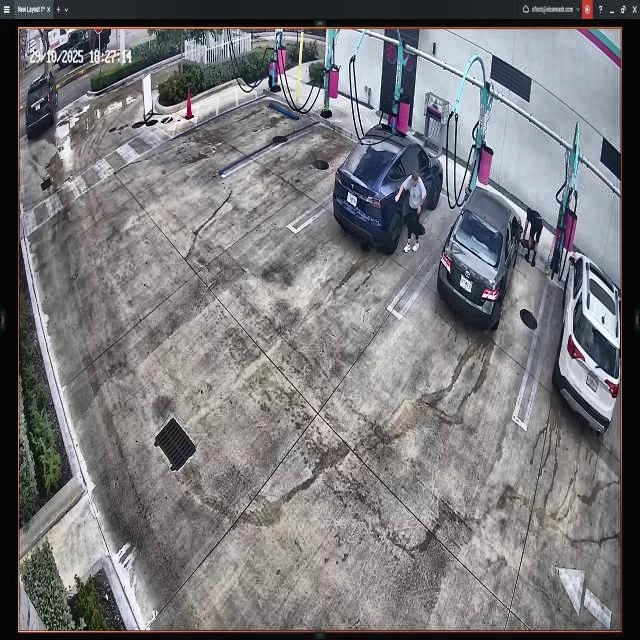Car: (333, 124, 444, 245), (440, 190, 523, 326)
